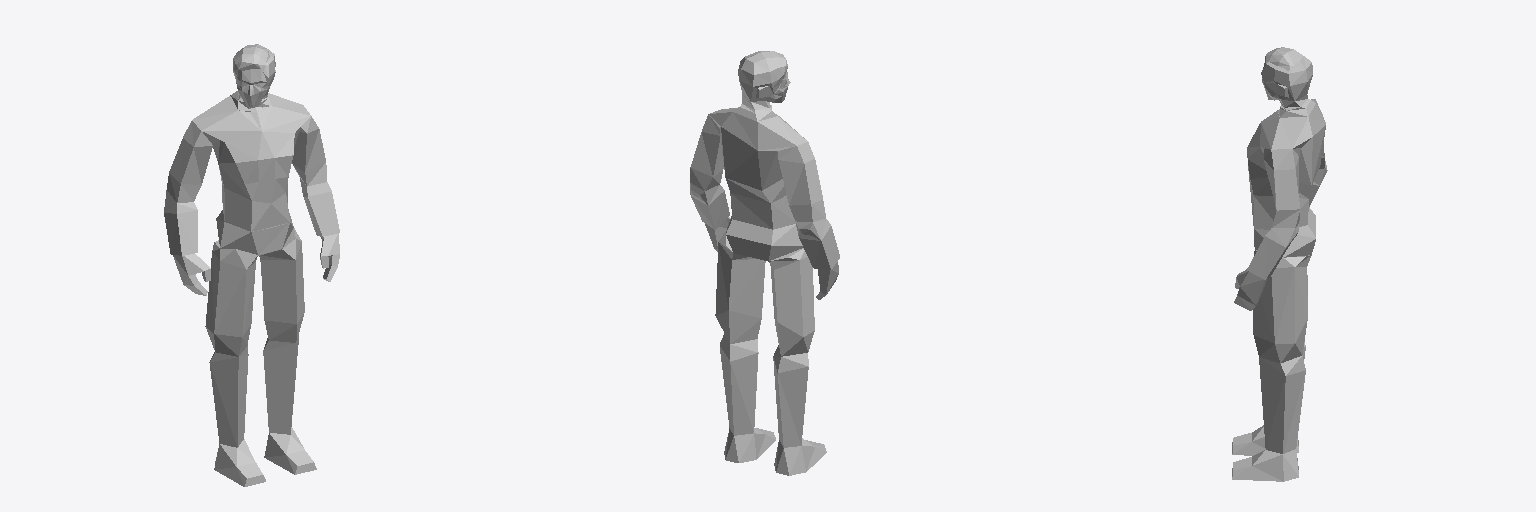
Rendered from Manuel94.obj.
3 views of the same model, side by side, from view 1: azimuth 30°, elevation 25°; view 2: azimuth 150°, elevation 25°; view 3: azimuth 270°, elevation 25° (orthographic).
Parts seen in each view (by area): view 1: leon; view 2: leon; view 3: leon.
Part boxes in pixels (x1,y1,x2,y2): leon: (164,44,339,486); leon: (690,51,839,475); leon: (1232,47,1327,481).
Size of the model in its own units: 4.62 by 12.19 by 2.57.